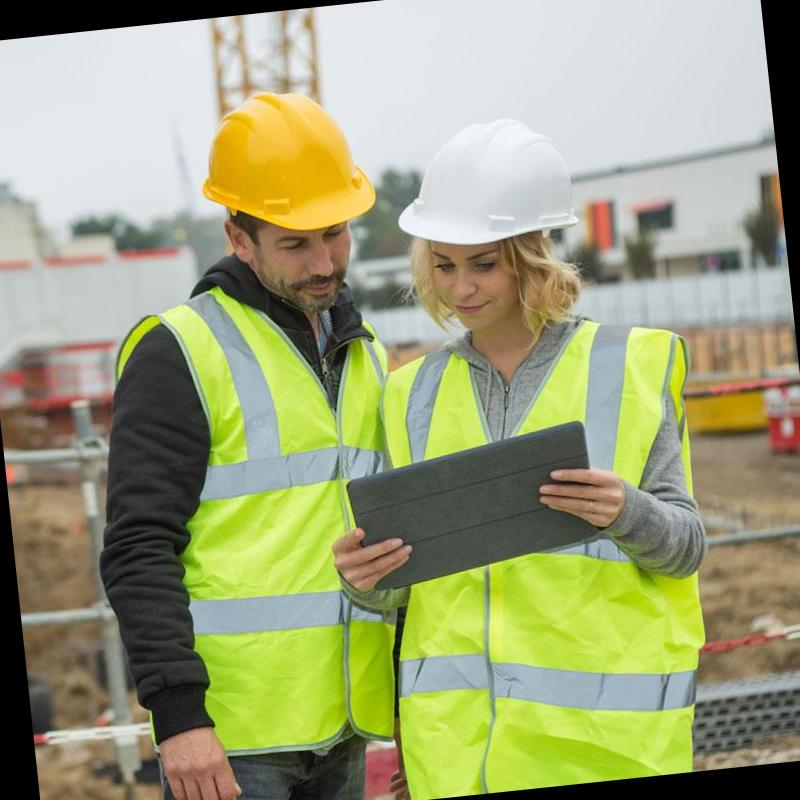Vest: (371, 302, 729, 787), (155, 264, 431, 738)
